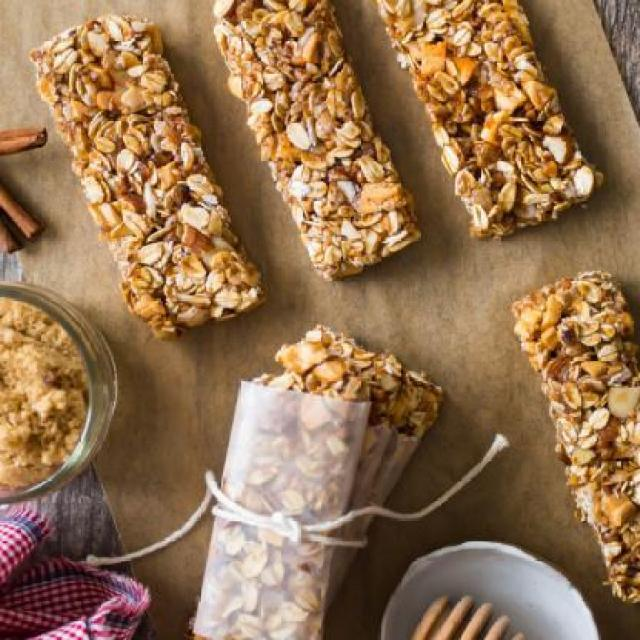Cereal bar packaged: (32, 30, 262, 332), (208, 2, 424, 281), (386, 1, 608, 241), (500, 261, 640, 604)
